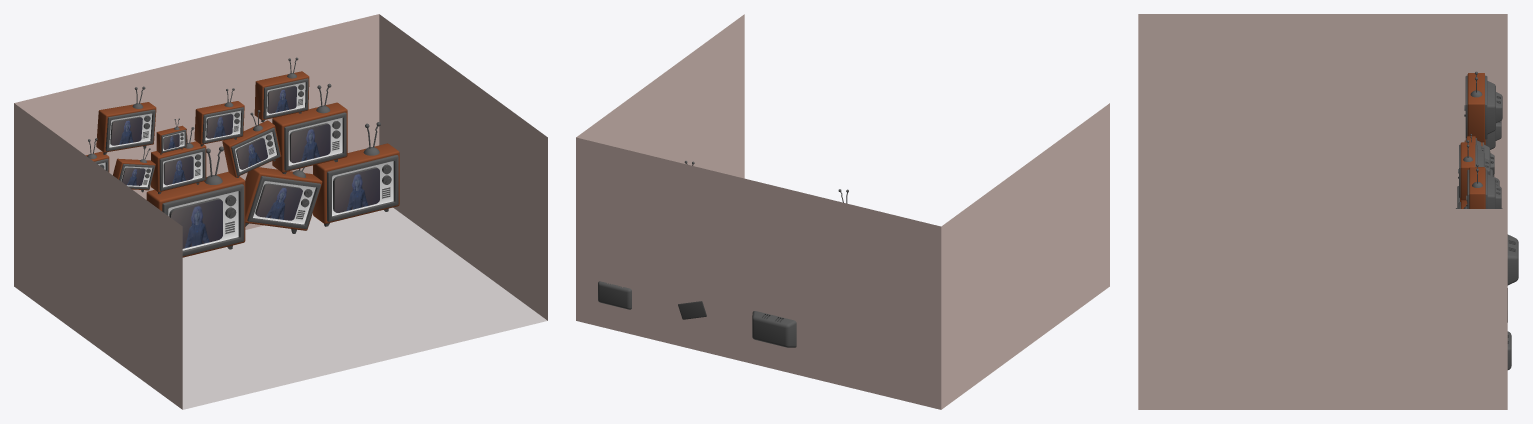
Rendered from Guarida Screen On.fbx.
The picture shows the model from 3 angles, left to right: view 1: azimuth 30°, elevation 25°; view 2: azimuth 150°, elevation 25°; view 3: azimuth 270°, elevation 25°; orthographic projection. The views are drawn at different scales.
Visible parts, largest first — view 1: Room, Floor, 1Televisor_Cuerpo.003, 1Televisor_Cuerpo.001, 2Televisor_Cuerpo.004, 1Televisor_Cuerpo.005, 1Televisor_Pantalla.001, 1Televisor_Cuerpo.004, 1Televisor_Pantalla.003, 3Televisor_Cuerpo.003, 1Televisor_Cuerpo.002, 2Televisor_Cuerpo.001 (+10 smaller); view 2: Room, 1Televisor_Cuerpo.001, 1Televisor_Cuerpo.003; view 3: Room, 1Televisor_Cuerpo.004, 3Televisor_Cuerpo.003, 2Televisor_Cuerpo.005, 1Televisor_Cuerpo.001.
Part boxes in pixels (box(x1,y1,x2,y2)): Room: box(14, 14, 547, 409); Floor: box(182, 207, 547, 409); 1Televisor_Cuerpo.003: box(313, 122, 399, 226); 1Televisor_Cuerpo.001: box(146, 146, 245, 257); 2Televisor_Cuerpo.004: box(272, 83, 347, 174); 1Televisor_Cuerpo.005: box(245, 167, 322, 233); 1Televisor_Pantalla.001: box(169, 198, 222, 248); 1Televisor_Cuerpo.004: box(96, 86, 156, 154); 1Televisor_Pantalla.003: box(333, 167, 379, 212); 3Televisor_Cuerpo.003: box(254, 57, 309, 122); 1Televisor_Cuerpo.002: box(222, 110, 281, 177); 2Televisor_Cuerpo.001: box(151, 127, 206, 194); Room: box(576, 14, 1109, 409); 1Televisor_Cuerpo.001: box(752, 311, 796, 347); 1Televisor_Cuerpo.003: box(598, 281, 631, 309); Room: box(1138, 14, 1507, 409); 1Televisor_Cuerpo.004: box(1465, 71, 1502, 142); 3Televisor_Cuerpo.003: box(1467, 164, 1501, 208); 2Televisor_Cuerpo.005: box(1459, 140, 1490, 202); 1Televisor_Cuerpo.001: box(1456, 208, 1518, 285).
Size of the model in its own units: 500 by 241 by 412.
Materials: 6 (1 with a texture image).
